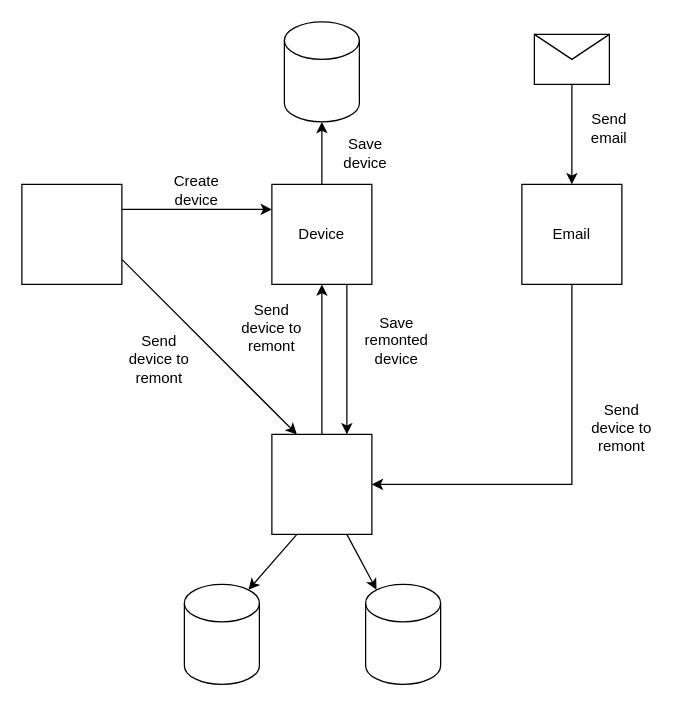
This 681x706 diagram has some shape labels left out. The shapes that lost their labels are listed below. From the top down, each one's centre as x and y in pixels, then its label:
pixel 71 233: Web Client
pixel 321 483: Remont
